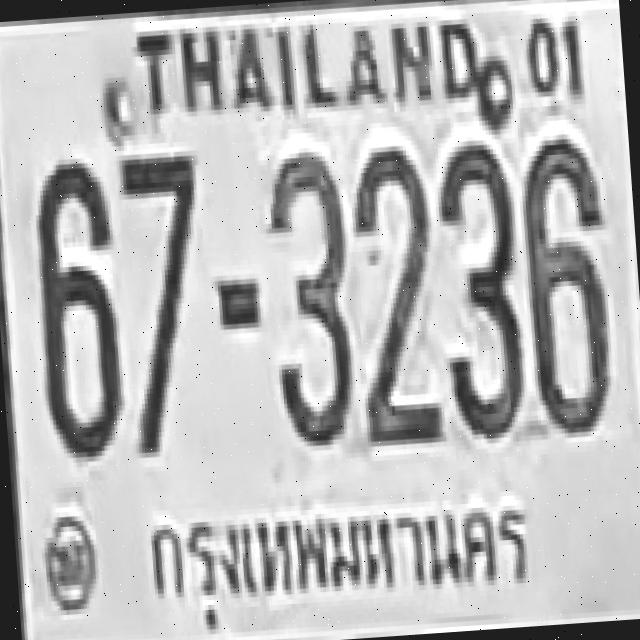2: (347, 141, 443, 444)
3: (260, 145, 356, 443), (431, 138, 526, 436)
6: (516, 132, 615, 435), (28, 156, 122, 454)
7: (116, 150, 212, 453)
Bangkok: (137, 474, 539, 636)
